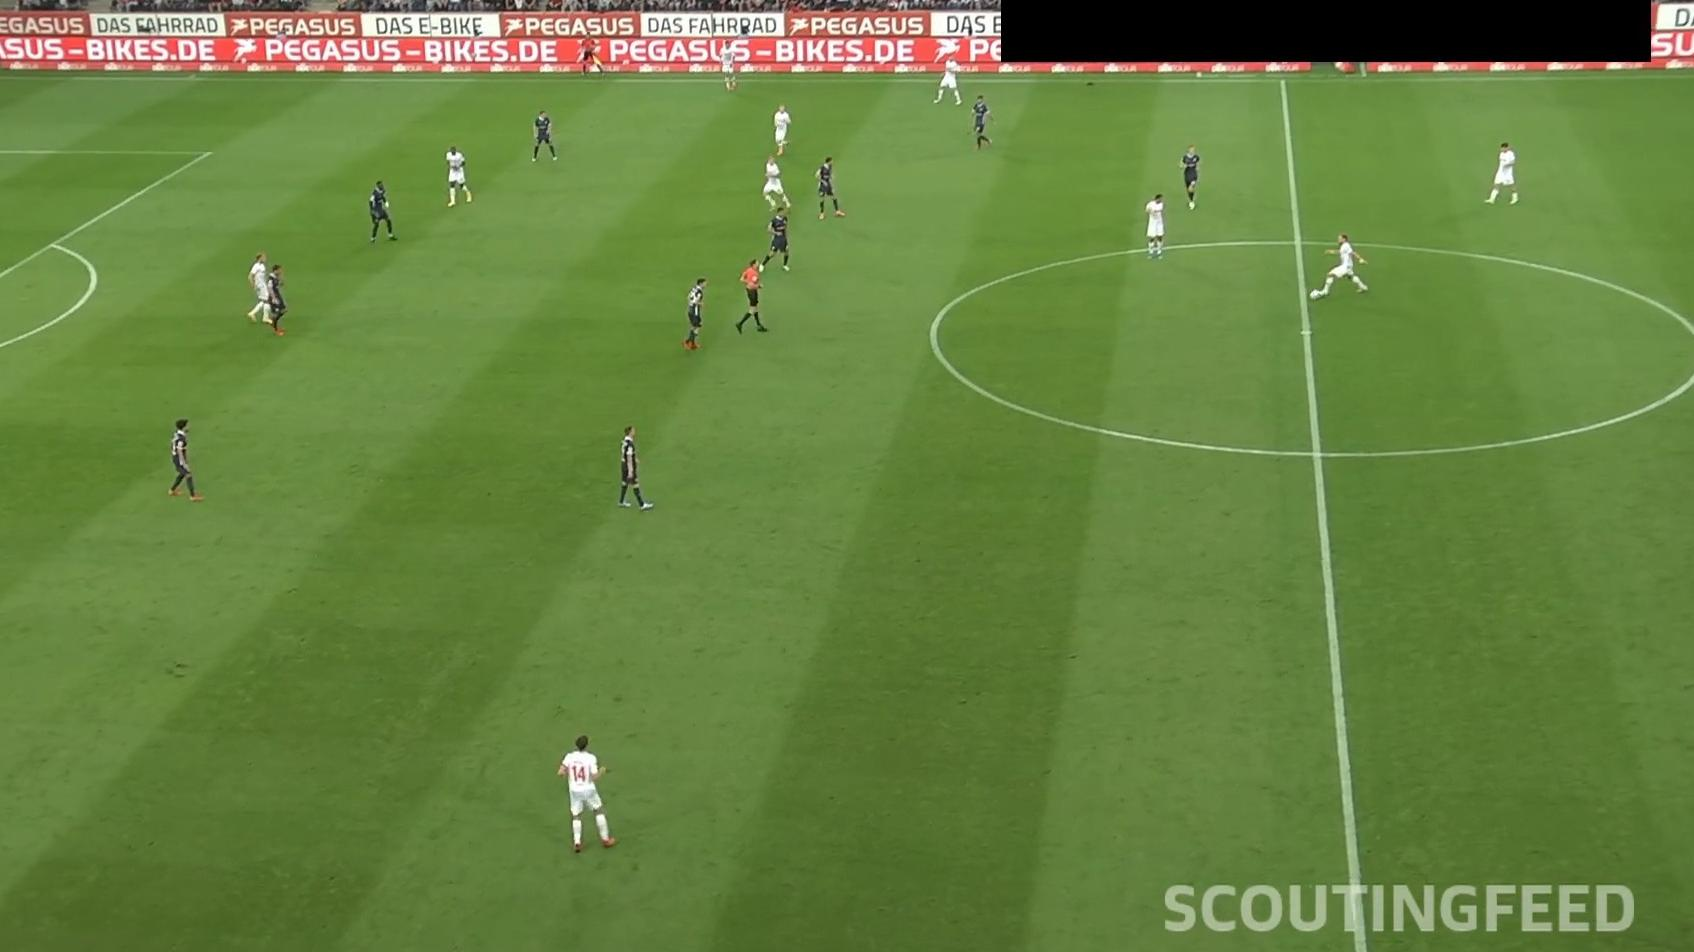ball: (1309, 287, 1322, 301)
